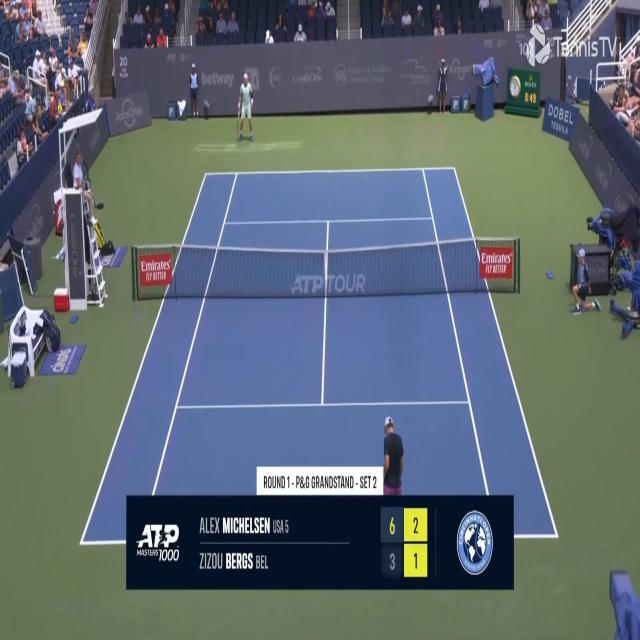tennis-player: (381, 416, 405, 495), (236, 72, 254, 143)
